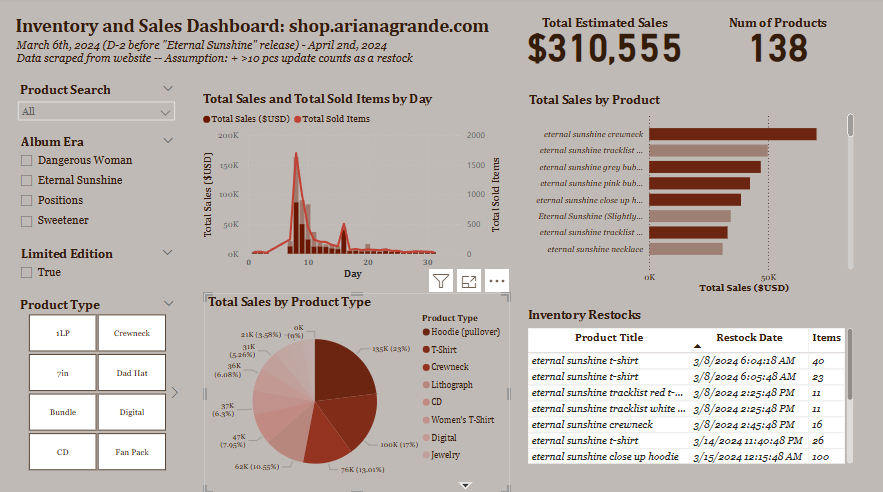

Layout of this report page (visuals, bound fields, positions):
{"tool":"powerbi","page":{"name":"Dashboard","canvas":[1280,720],"ordinal":0},"visuals":[{"type":"slicer","title":"Album ","fields":{"Values":["ariana_grande_inventory01_13.album_era"]},"box":[22.7,191.3,244.5,160.9],"z":0},{"type":"textbox","box":[23.4,20,705.7,44.3],"z":1000},{"type":"textbox","box":[24,54,706,50],"z":2000},{"type":"lineClusteredColumnComboChart","title":"Total Sales and Total Sold Items by Day","fields":{"Y":["Sum(ariana_grande_inventory01_13.estimated_total_sales)"],"Y2":["Sum(ariana_grande_inventory01_13.sold_items)"],"Category":["ariana_grande_inventory01_13.data_pulled_at.Variation.Date Hierarchy.Day"]},"box":[292.9,133.7,442,278],"z":3000},{"type":"barChart","title":"Total Sales by Product","fields":{"Category":["ariana_grande_inventory01_13.product_title"],"Y":["Sum(ariana_grande_inventory01_13.estimated_total_sales)"]},"box":[762,136,478,296],"z":4000},{"type":"slicer","fields":{"Values":["ariana_grande_inventory01_13.product_title"]},"box":[21.4,116.9,245.7,75.7],"z":5000},{"type":"slicer","title":"Product Type","fields":{"Values":["ariana_grande_inventory01_13.product_type"]},"box":[21.8,426.7,246.9,262],"z":6000},{"type":"pieChart","title":"Total Sales by Product Type","fields":{"Category":["ariana_grande_inventory01_13.product_type"],"Y":["Sum(ariana_grande_inventory01_13.estimated_total_sales)"]},"box":[298.9,425.7,442,290],"z":7000},{"type":"card","title":"Total Estimated Sales","fields":{"Values":["Sum(ariana_grande_inventory01_13.estimated_total_sales)"]},"box":[751.4,10,250,107.1],"z":8000},{"type":"card","title":"Num of Products","fields":{"Values":["Count(ariana_grande_inventory01_13.variant_sku)"]},"box":[1001.4,10,250,107.1],"z":9000},{"type":"tableEx","title":"Inventory Restocks","fields":{"Values":["ariana_grande_inventory01_13.product_title","ariana_grande_inventory01_13.Data Pulled at","ariana_grande_inventory01_13.quantity_diff"]},"box":[760.9,445.1,478.7,231.8],"z":10000},{"type":"slicer","fields":{"Values":["ariana_grande_inventory01_13.is_limited_edition"]},"box":[23.6,352.2,243.6,68.2],"z":11000}]}

Visuals, with their boxes in screenshot pixels (x1, y1, x2, y2), scaled from the page's 1280x720 canvas onto the 883x492 screenshot:
"Album " slicer: [16, 131, 184, 241]
textbox: [16, 14, 503, 44]
textbox: [17, 37, 504, 71]
"Total Sales and Total Sold Items by Day" lineClusteredColumnComboChart: [202, 91, 507, 281]
"Total Sales by Product" barChart: [526, 93, 855, 295]
slicer - ariana_grande_inventory01_13.product_title: [15, 80, 184, 132]
"Product Type" slicer: [15, 292, 185, 471]
"Total Sales by Product Type" pieChart: [206, 291, 511, 489]
"Total Estimated Sales" card: [518, 7, 691, 80]
"Num of Products" card: [691, 7, 863, 80]
"Inventory Restocks" tableEx: [525, 304, 855, 463]
slicer - ariana_grande_inventory01_13.is_limited_edition: [16, 241, 184, 287]
